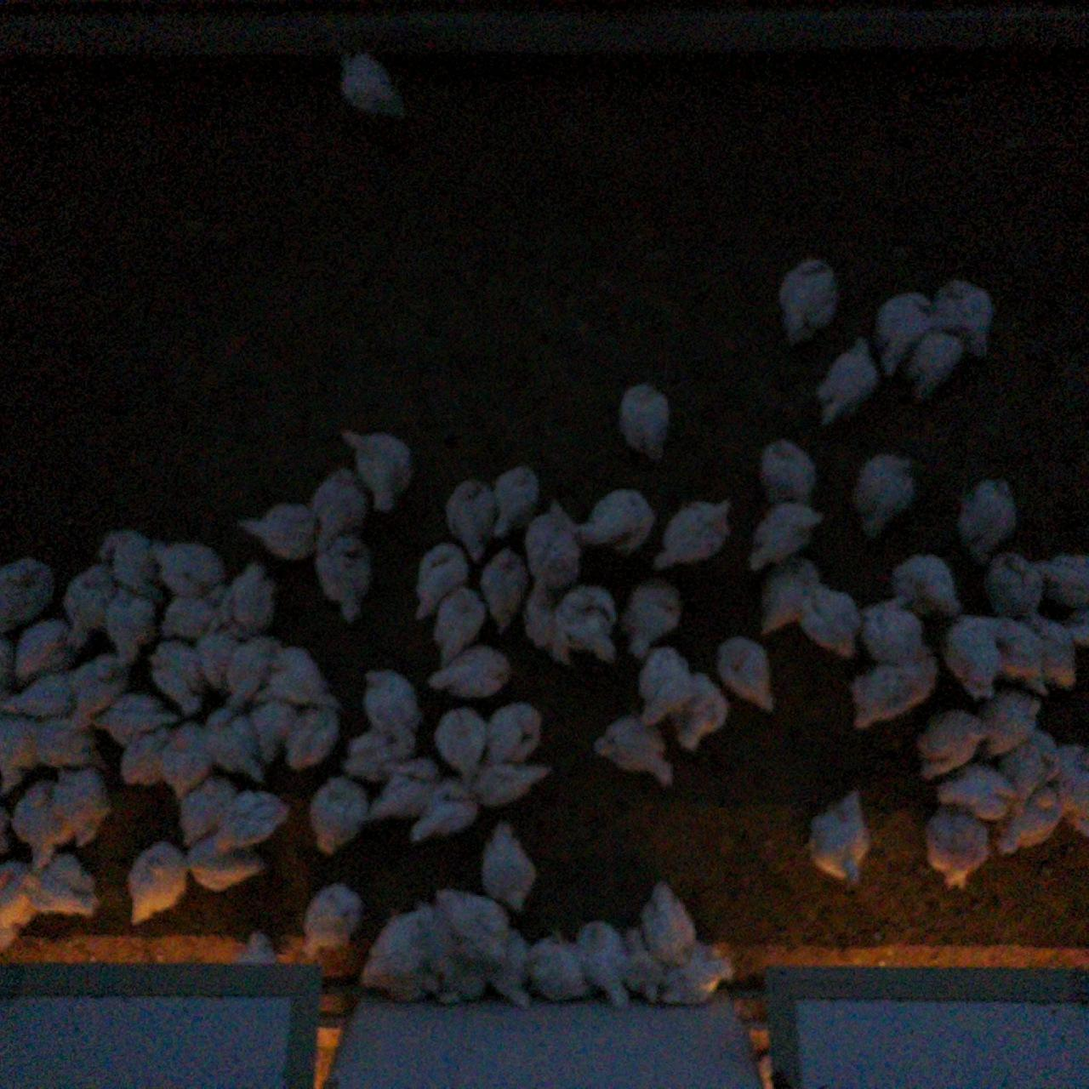chicken: (521, 499, 584, 616), (807, 784, 873, 887), (366, 909, 444, 996), (326, 44, 409, 125), (850, 655, 938, 729), (814, 329, 877, 431), (990, 778, 1067, 861), (656, 491, 735, 569), (592, 715, 680, 785), (341, 424, 410, 513), (299, 881, 368, 969), (125, 840, 194, 927), (854, 448, 920, 536), (749, 500, 824, 577), (0, 547, 60, 641), (781, 252, 841, 346), (925, 709, 991, 794), (930, 795, 990, 887), (362, 663, 426, 748), (582, 485, 655, 559), (934, 273, 994, 363), (713, 631, 779, 711), (478, 818, 536, 909), (424, 643, 513, 702), (370, 755, 444, 825), (803, 581, 869, 659), (218, 782, 292, 851), (761, 559, 824, 639), (661, 942, 737, 1008), (878, 287, 935, 375), (476, 540, 528, 636), (96, 688, 178, 748), (187, 833, 270, 892), (31, 848, 98, 921), (69, 653, 132, 730), (615, 381, 674, 463), (439, 888, 506, 960), (100, 528, 161, 607), (635, 641, 691, 727), (307, 775, 365, 858), (12, 779, 65, 869), (640, 878, 696, 963), (58, 761, 112, 849), (954, 613, 1008, 701), (149, 534, 228, 594), (97, 580, 154, 662), (859, 598, 925, 668), (559, 582, 617, 661), (628, 576, 684, 657), (908, 323, 965, 402), (308, 464, 366, 541), (410, 541, 465, 622), (674, 670, 728, 752), (903, 552, 969, 619), (241, 499, 318, 556), (312, 534, 366, 615), (201, 708, 260, 782), (448, 475, 499, 560), (160, 718, 212, 801), (478, 921, 530, 1004), (960, 480, 1016, 557), (435, 581, 485, 667), (471, 757, 556, 806), (1003, 727, 1066, 793), (483, 694, 546, 759), (578, 920, 626, 1005), (19, 616, 82, 680), (268, 643, 328, 710), (421, 934, 480, 1001), (620, 919, 667, 1003), (994, 548, 1046, 623), (988, 687, 1047, 753), (435, 703, 485, 780), (227, 635, 276, 711), (490, 461, 539, 537), (412, 785, 474, 845), (1019, 612, 1073, 680), (938, 762, 1007, 815), (64, 560, 105, 649), (341, 730, 409, 783), (759, 437, 815, 501), (532, 936, 589, 998), (0, 862, 39, 952), (283, 704, 336, 770), (6, 674, 74, 724), (27, 718, 98, 765), (996, 617, 1045, 685), (233, 930, 284, 995), (230, 561, 277, 630), (523, 599, 570, 666), (164, 595, 224, 646), (1038, 549, 1089, 609), (1058, 741, 1089, 834), (182, 779, 228, 841), (121, 728, 165, 787), (152, 636, 189, 705), (202, 629, 242, 691), (0, 713, 27, 792), (252, 694, 289, 751), (1060, 607, 1089, 643), (0, 639, 16, 691)
